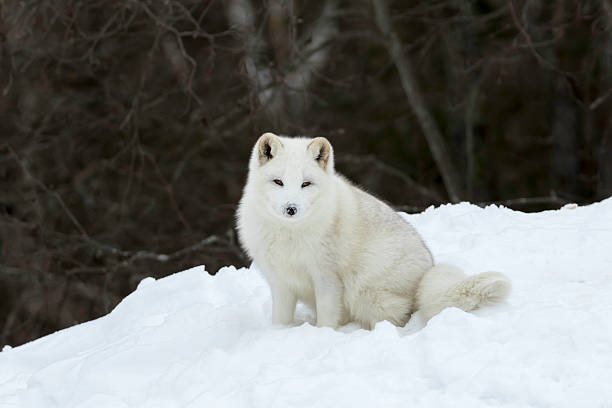arcticfox: (258, 146, 331, 238)
